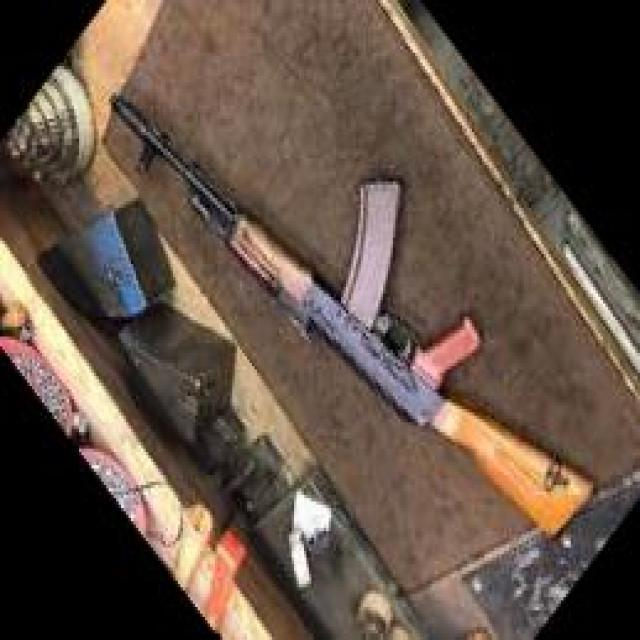weapon: (107, 90, 596, 544)
